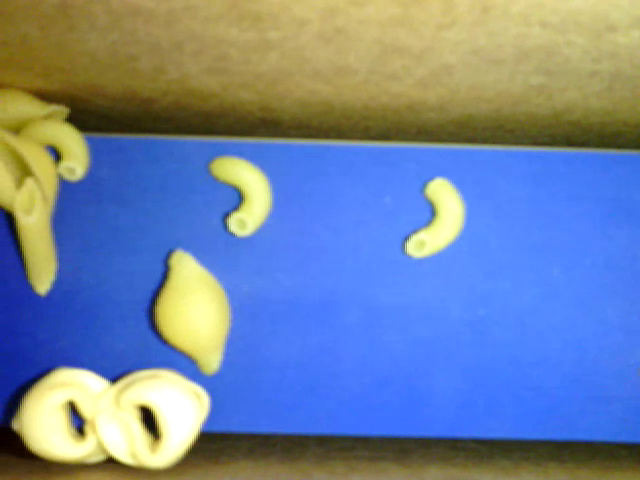elbow: (400, 170, 465, 262), (206, 153, 272, 237), (19, 116, 91, 181)
penne: (13, 176, 58, 296)
shell: (148, 247, 231, 377), (1, 133, 62, 230), (1, 87, 73, 136)
tortellini: (96, 371, 212, 471), (8, 367, 124, 465)
